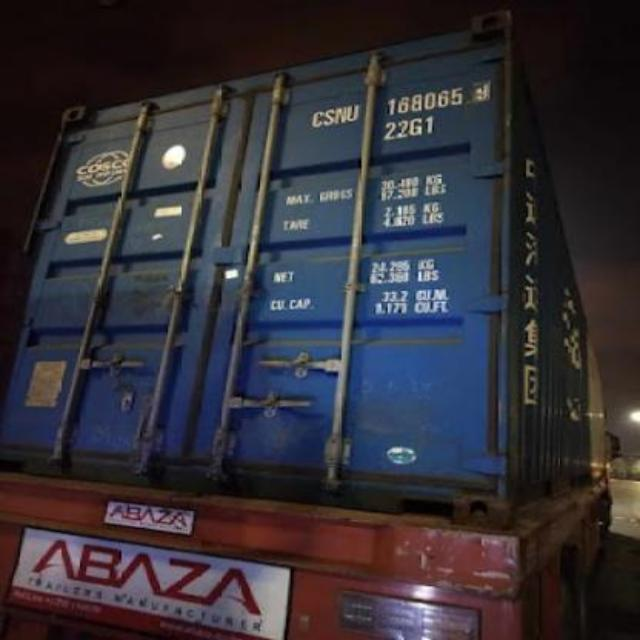0: (422, 85, 436, 112)
1: (386, 93, 396, 113)
5: (448, 80, 462, 106)
6: (436, 80, 448, 110), (396, 89, 409, 115)
8: (411, 83, 424, 113)
9: (474, 78, 490, 100)
C: (310, 104, 324, 132)
N: (332, 102, 348, 128)
S: (324, 104, 334, 130)
U: (344, 100, 360, 130)
